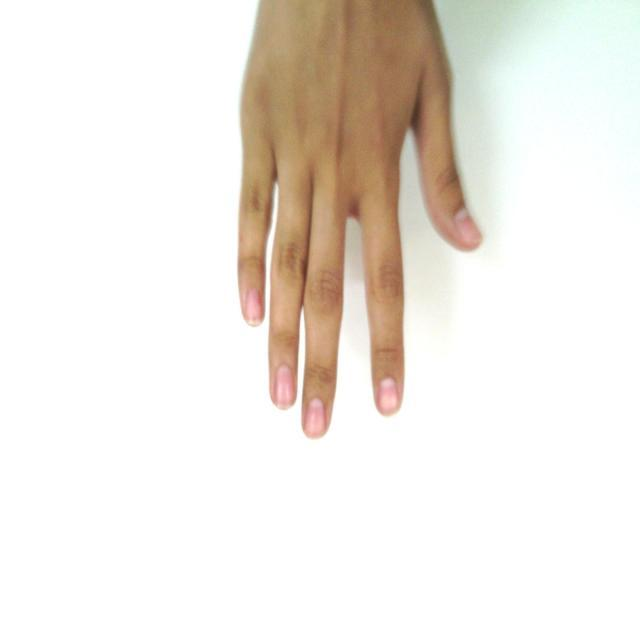Fingernail: (455, 209, 481, 243), (305, 398, 325, 438), (276, 366, 294, 407), (379, 378, 398, 412), (246, 290, 262, 324)
